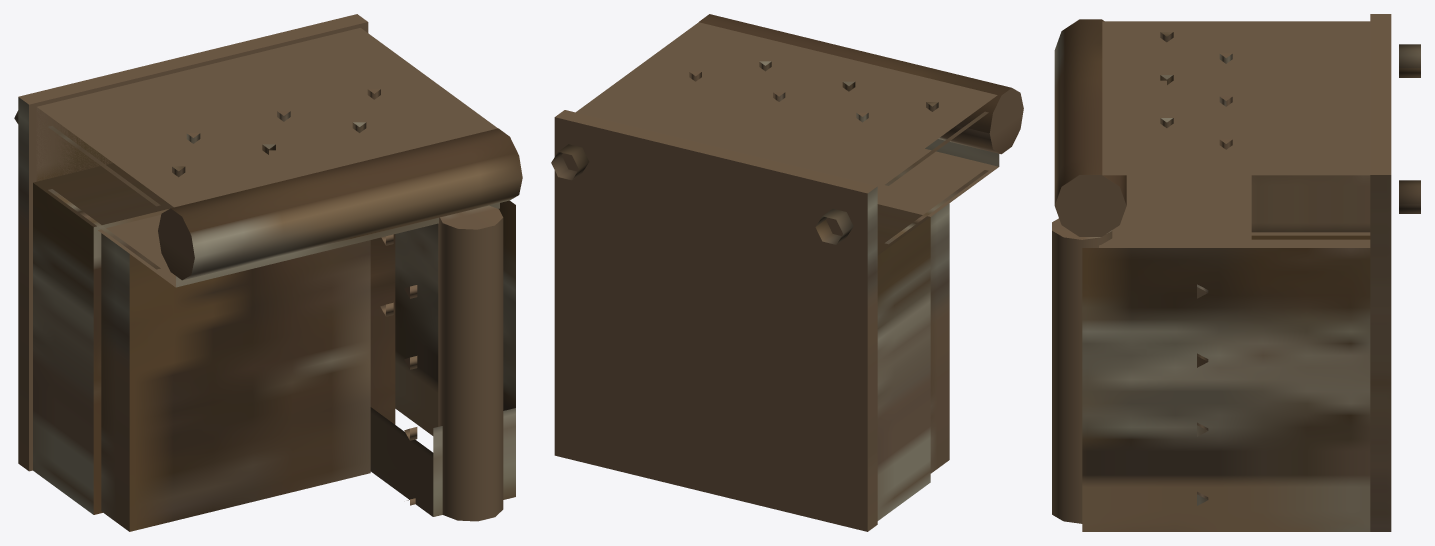
The model's file is section-6.obj.
3 renders of one model, left to right at view 1: azimuth 30°, elevation 25°; view 2: azimuth 150°, elevation 25°; view 3: azimuth 270°, elevation 25°, orthographic. The views are drawn at different scales.
Bounding box in the file's own units: 0.915 × 0.935 × 0.8713.
